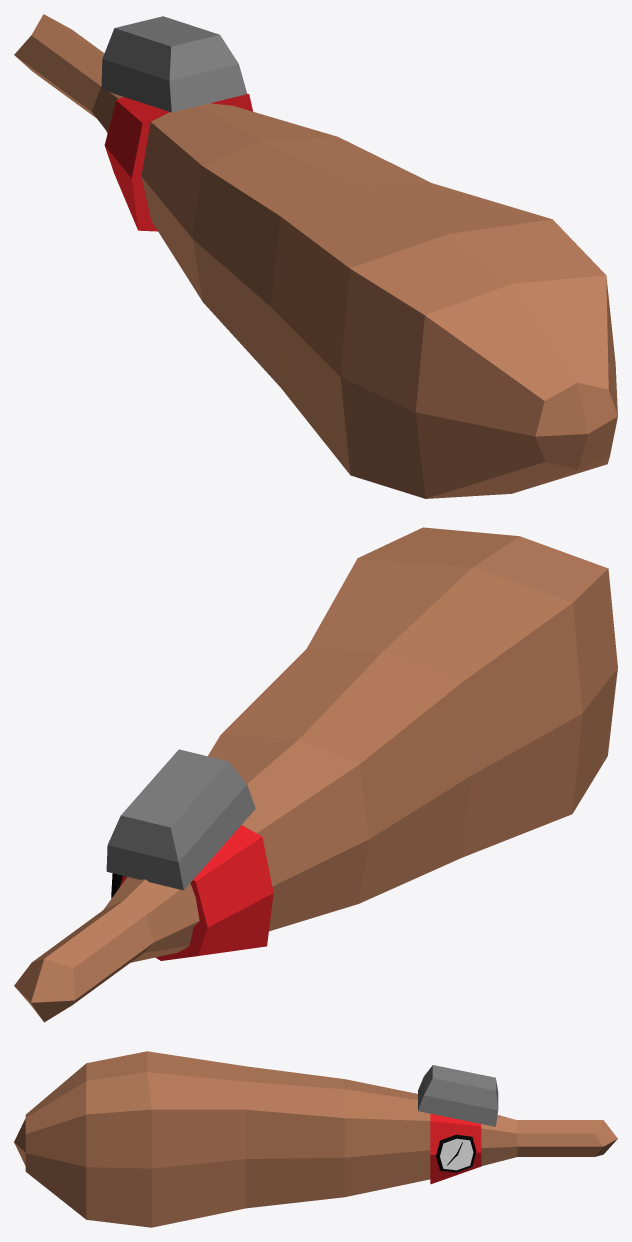
The model's file is weapon_mesh_tidur_fix.fbx.
The picture shows the model from 3 angles, top to bottom: view 1: azimuth 30°, elevation 25°; view 2: azimuth 150°, elevation 25°; view 3: azimuth 270°, elevation 25°; orthographic projection. The views are drawn at different scales.
Parts seen in each view (by area): view 1: Cube.002; view 2: Cube.002; view 3: Cube.002.
Boxes of the visible parts, <box> form: Cube.002: <box>14,14,617,498</box>; Cube.002: <box>14,527,617,1022</box>; Cube.002: <box>14,1051,617,1227</box>.
Bounding box in the file's own units: 0.2393 × 0.2405 × 1.
